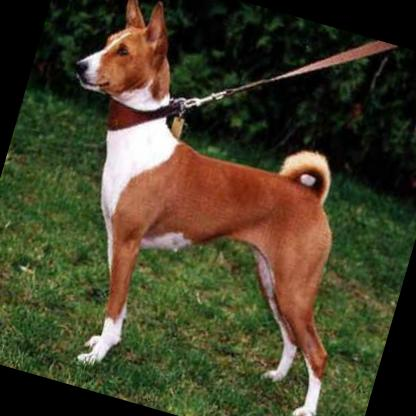basenji: (0, 0, 414, 416)
